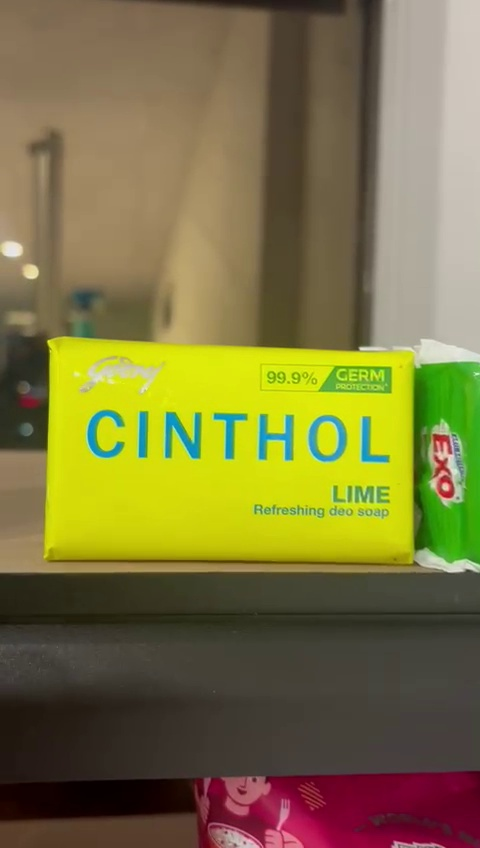Cinthol: (46, 343, 414, 566)
